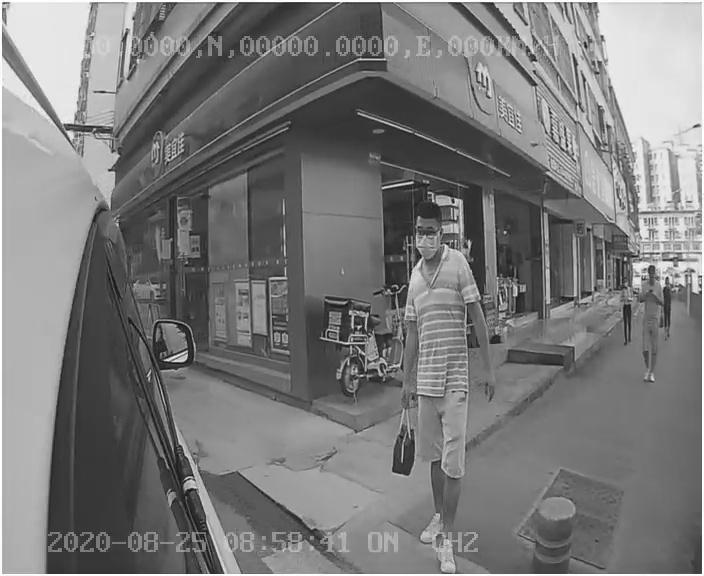person: (383, 198, 497, 529)
